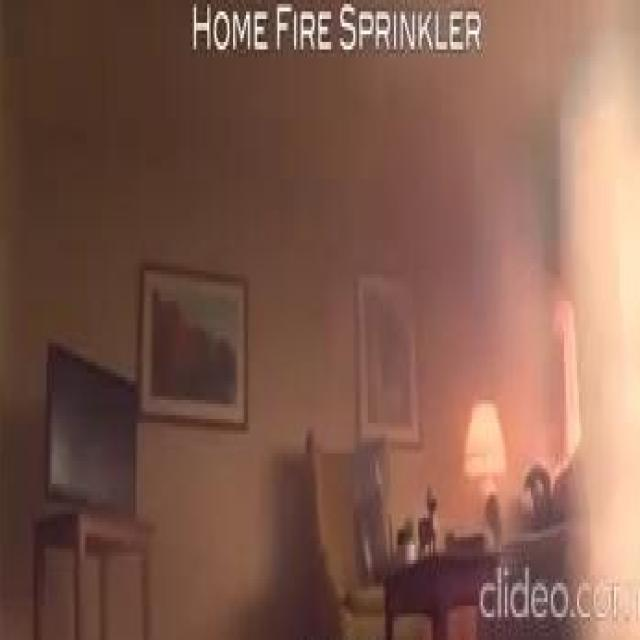smoke: (551, 293, 581, 484)
